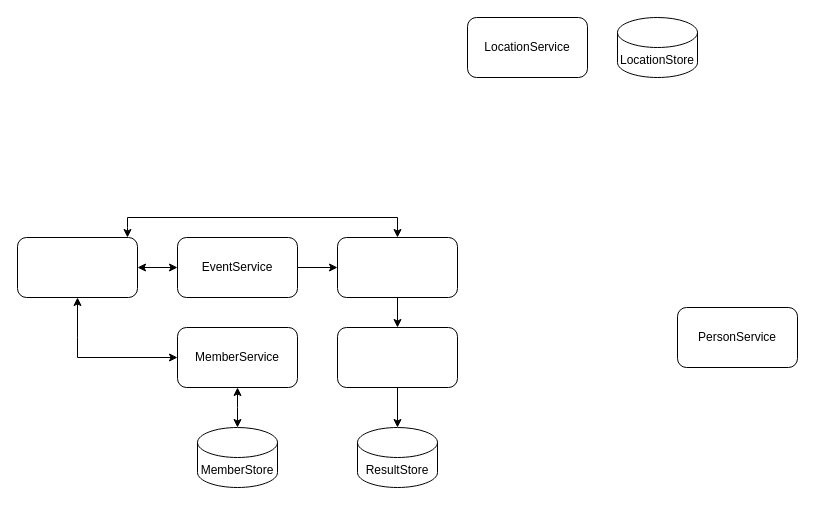
Image size: 815x505. Some labels were removed from this diagram. Here are the shapes that lost their labels. From the top down, the centre of each, then its label:
At (x=77, y=267): "Scoreboard BFF (API Gateway)".
At (x=397, y=267): "TournamentService".
At (x=397, y=357): "ResultService".
